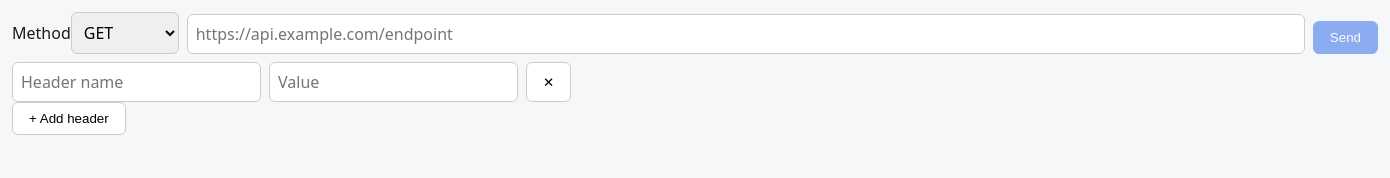
Test: RequestForm › clears the URL error once the user edits the URL
Type "foo" into the field with placeholder "https://api.example.com/endpoint" at (746, 34), box left=187, top=14, right=1305, bottom=54
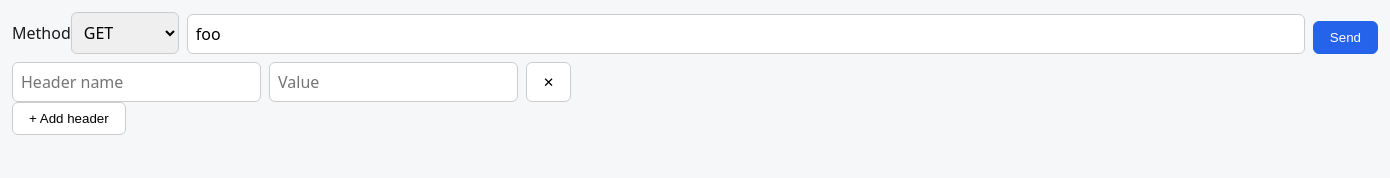
Click the button "Send" at (1345, 38), box left=1313, top=21, right=1378, bottom=54
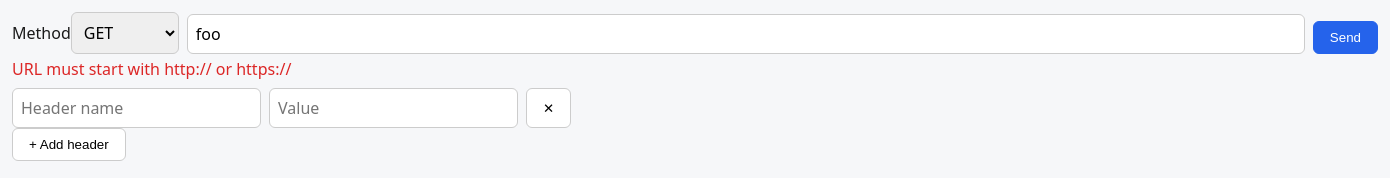
Replace the text in the field with placeholder "https://api.example.com/endpoint" with "https://api.test/x" at (746, 34), box left=187, top=14, right=1305, bottom=54
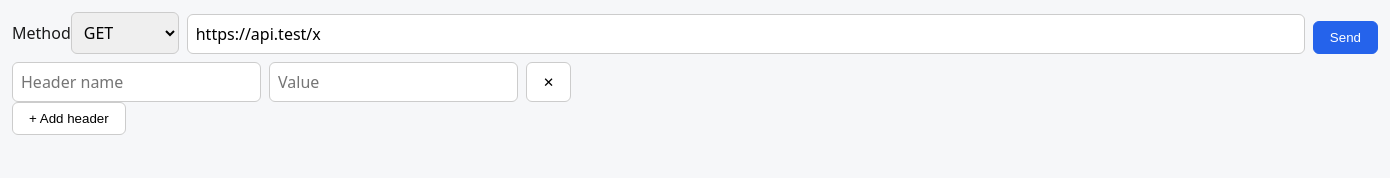
Expected: the text "URL must start" is gone
